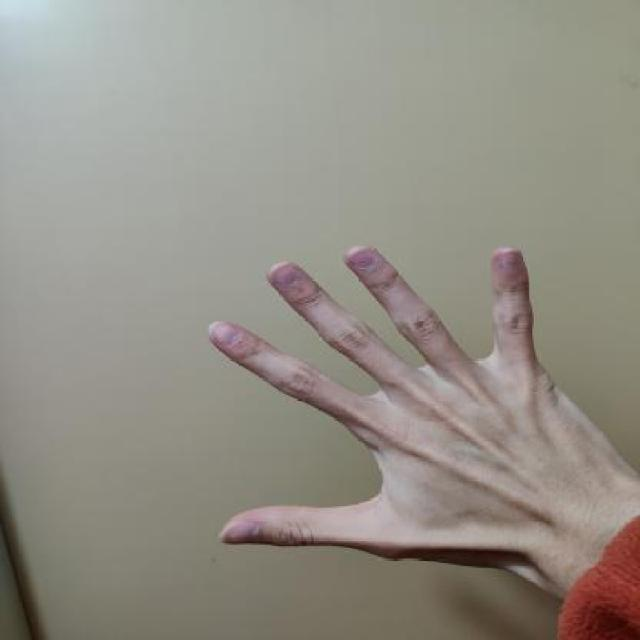no_glove: (198, 231, 638, 638)
